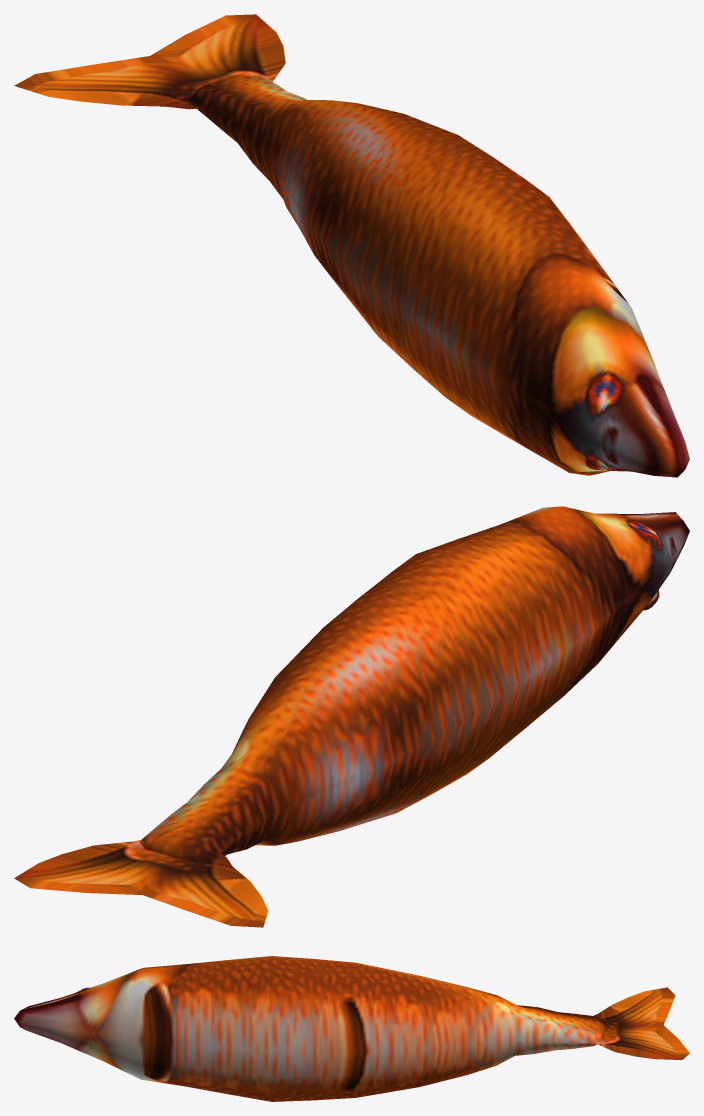
File: YellowFish.fbx
The picture shows the model from 3 angles, top to bottom: view 1: azimuth 30°, elevation 25°; view 2: azimuth 150°, elevation 25°; view 3: azimuth 270°, elevation 25°; orthographic projection. The views are drawn at different scales.
Parts seen in each view (by area): view 1: FishPack.009; view 2: FishPack.009; view 3: FishPack.009.
Boxes of the visible parts, x1,y1,x2,y2 form: FishPack.009: (14, 14, 689, 477); FishPack.009: (14, 506, 689, 927); FishPack.009: (14, 956, 689, 1101).
Size of the model in its own units: 3.17 by 2.84 by 12.43.
